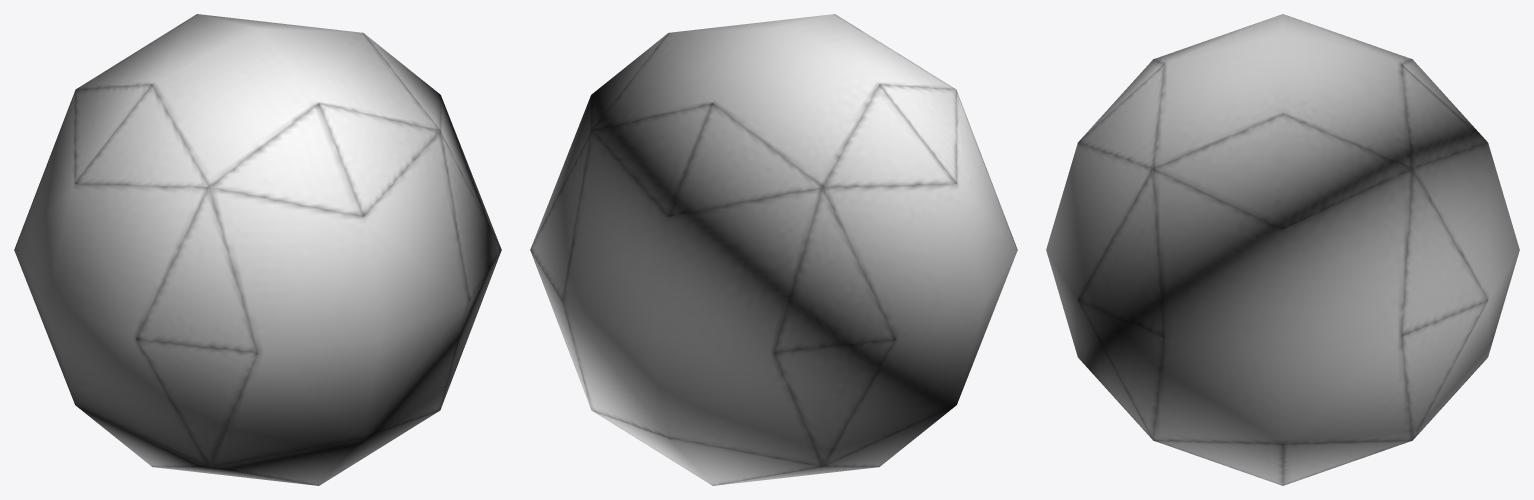
File: bit.obj
3 renders of one model, left to right at view 1: azimuth 30°, elevation 25°; view 2: azimuth 150°, elevation 25°; view 3: azimuth 270°, elevation 25°, orthographic. The views are drawn at different scales.
Parts seen in each view (by area): view 1: GeoSphere008; view 2: GeoSphere008; view 3: GeoSphere008.
Boxes of the visible parts, x1,y1,x2,y2 form: GeoSphere008: [14, 14, 501, 485]; GeoSphere008: [530, 14, 1017, 485]; GeoSphere008: [1046, 14, 1519, 485].
Size of the model in its own units: 13.2 by 13.2 by 13.2.
Materials: 1 (1 with a texture image).
